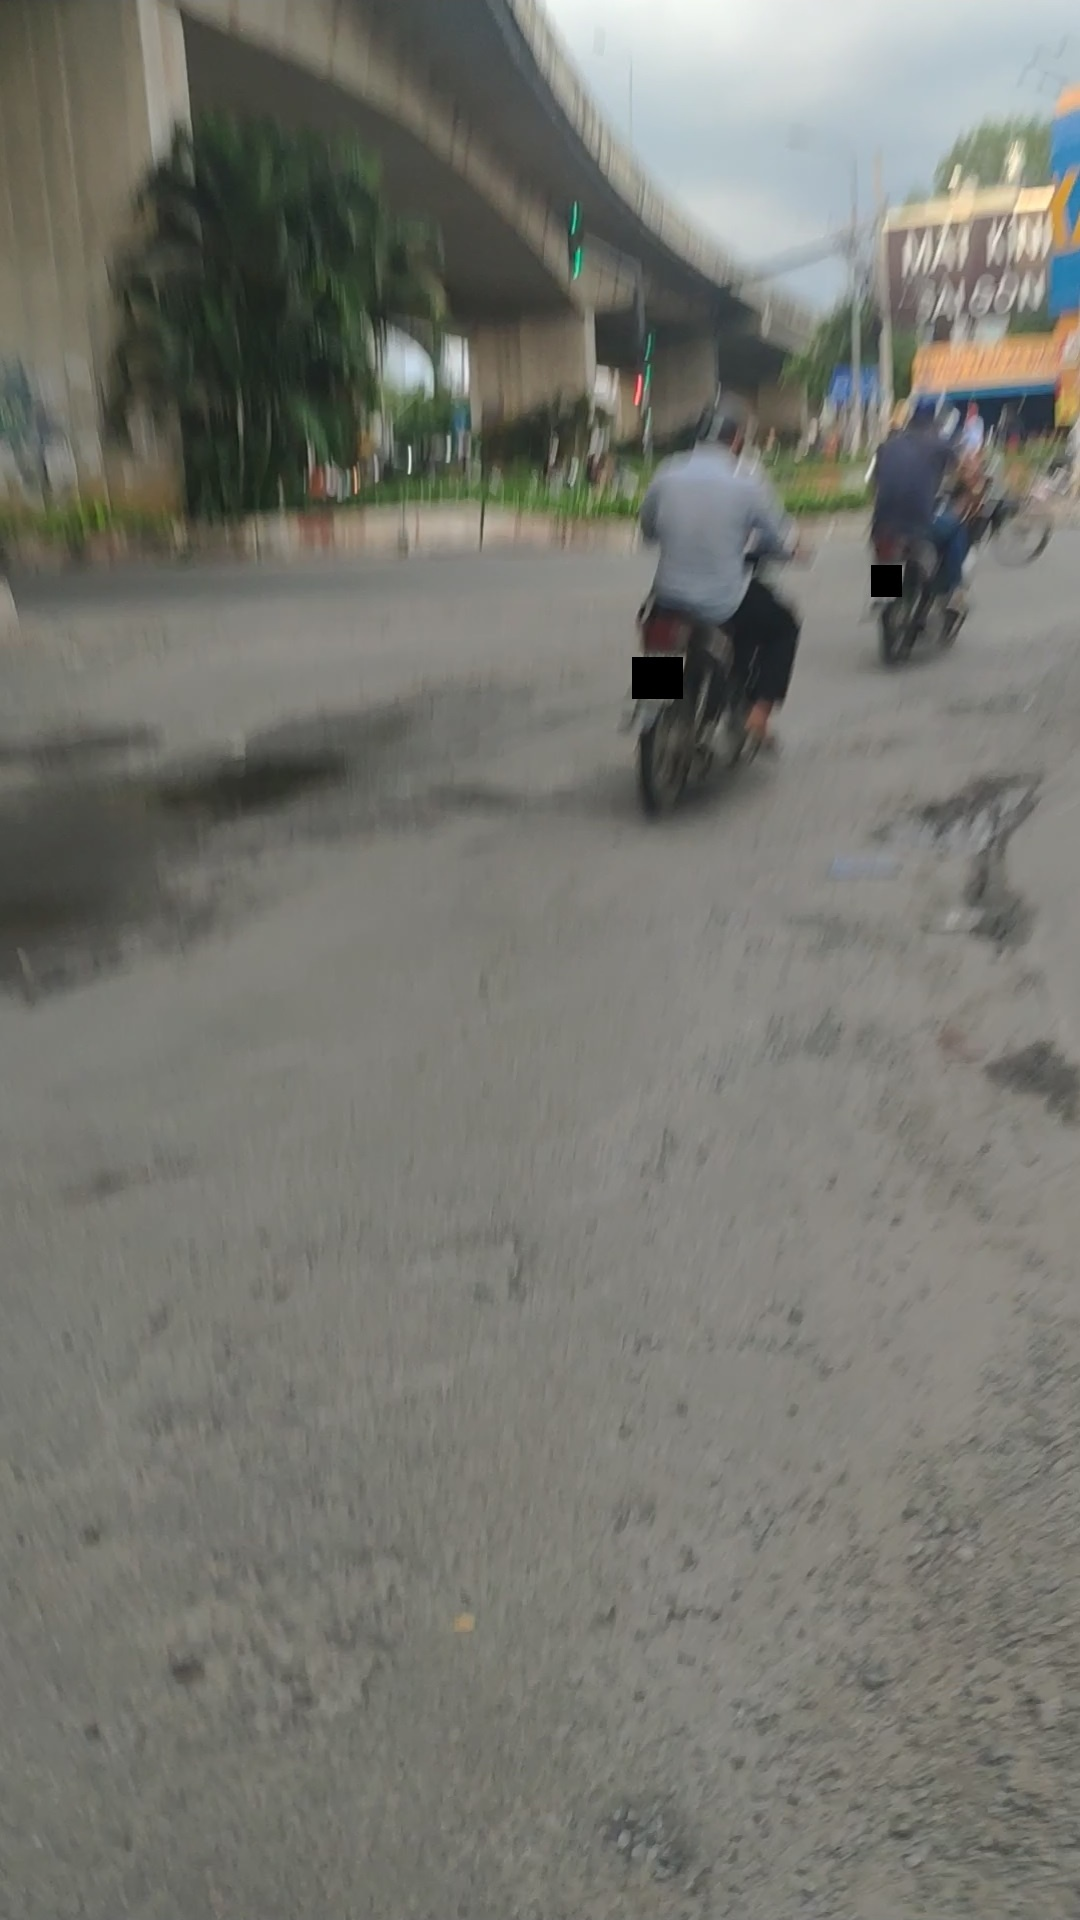hole: (915, 773, 1030, 943), (138, 732, 345, 820)
